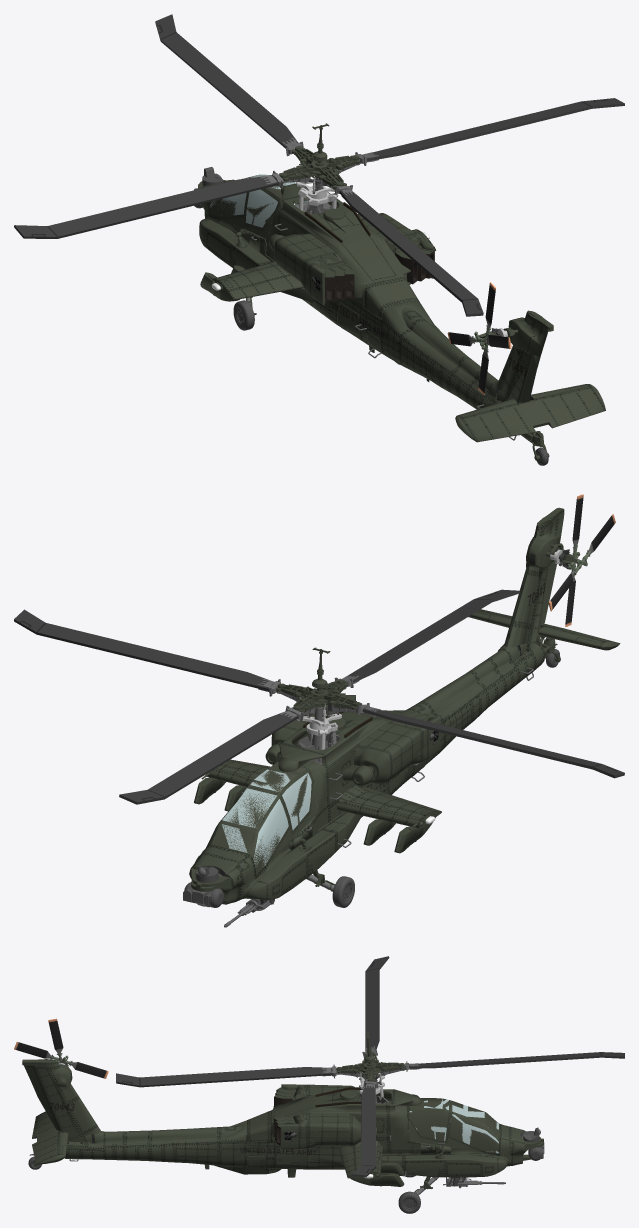
The picture shows the model from 3 angles, top to bottom: view 1: azimuth 30°, elevation 25°; view 2: azimuth 150°, elevation 25°; view 3: azimuth 270°, elevation 25°; orthographic projection. The views are drawn at different scales.
Parts seen in each view (by area): view 1: body|ah2-FACES, rotor|ah621-FACES, body|ah3-FACES, body|ah18b-FACES, body|ah1-FACES, body|ah30b-FACES, body|ah5L-FACES, rotor|ah23a-FACES, trotor|ah59a-FACES, body|ah21a01-FACES, body|Object01-FACES, body|ah54-FACES (+3 smaller); view 2: body|ah2-FACES, rotor|ah621-FACES, body|Object01-FACES, body|ah30b-FACES, body|ah5L-FACES, body|ah18b-FACES, body|ah05-FACES, body|ah1-FACES, body|ah23a-FACES, body|ah9L1-FACES, body|ah45c-FACES, trotor|ah59a-FACES (+7 smaller); view 3: body|ah1-FACES, rotor|ah621-FACES, body|ah18b-FACES, body|ah30b-FACES, body|ah05-FACES, body|ah2-FACES, body|ah3-FACES, trotor|ah59a-FACES, body|Object01-FACES_0, body|ah54-FACES, body|ah21a01-FACES, body|Object01-FACES (+5 smaller).
Boxes of the visible parts, x1,y1,x2,y2 form: body|ah2-FACES: [198, 181, 548, 460]; rotor|ah621-FACES: [14, 14, 624, 316]; body|ah3-FACES: [455, 384, 605, 441]; body|ah18b-FACES: [274, 213, 434, 289]; body|ah1-FACES: [221, 179, 553, 457]; body|ah30b-FACES: [199, 218, 312, 302]; body|ah5L-FACES: [208, 229, 435, 299]; rotor|ah23a-FACES: [279, 146, 359, 189]; trotor|ah59a-FACES: [447, 282, 511, 395]; body|ah21a01-FACES: [274, 247, 433, 305]; body|Object01-FACES: [209, 174, 308, 227]; body|ah54-FACES: [194, 167, 548, 465]; body|ah2-FACES: [198, 509, 564, 906]; rotor|ah621-FACES: [14, 589, 624, 804]; body|Object01-FACES: [206, 769, 317, 866]; body|ah30b-FACES: [194, 812, 361, 899]; body|ah5L-FACES: [201, 759, 441, 829]; body|ah18b-FACES: [271, 693, 440, 772]; body|ah05-FACES: [212, 770, 308, 874]; body|ah1-FACES: [189, 507, 563, 890]; body|ah23a-FACES: [265, 543, 576, 785]; body|ah9L1-FACES: [194, 777, 435, 853]; body|ah45c-FACES: [183, 667, 533, 927]; trotor|ah59a-FACES: [548, 494, 615, 626]; body|ah1-FACES: [22, 1060, 543, 1174]; rotor|ah621-FACES: [116, 956, 624, 1177]; body|ah18b-FACES: [274, 1084, 357, 1137]; body|ah30b-FACES: [342, 1148, 507, 1189]; body|ah05-FACES: [409, 1098, 498, 1152]; body|ah2-FACES: [23, 1059, 543, 1177]; body|ah3-FACES: [32, 1111, 68, 1164]; trotor|ah59a-FACES: [14, 1018, 108, 1078]; body|Object01-FACES_0: [409, 1098, 498, 1151]; body|ah54-FACES: [28, 1127, 542, 1213]; body|ah21a01-FACES: [273, 1097, 357, 1149]; body|Object01-FACES: [409, 1099, 498, 1153].
Bounding box in the file's own units: 14.63 × 5.13 × 17.52.
Materials: 29 (19 with a texture image).
